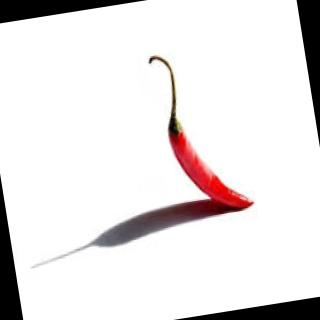Cabai Merah: (157, 47, 256, 222)
